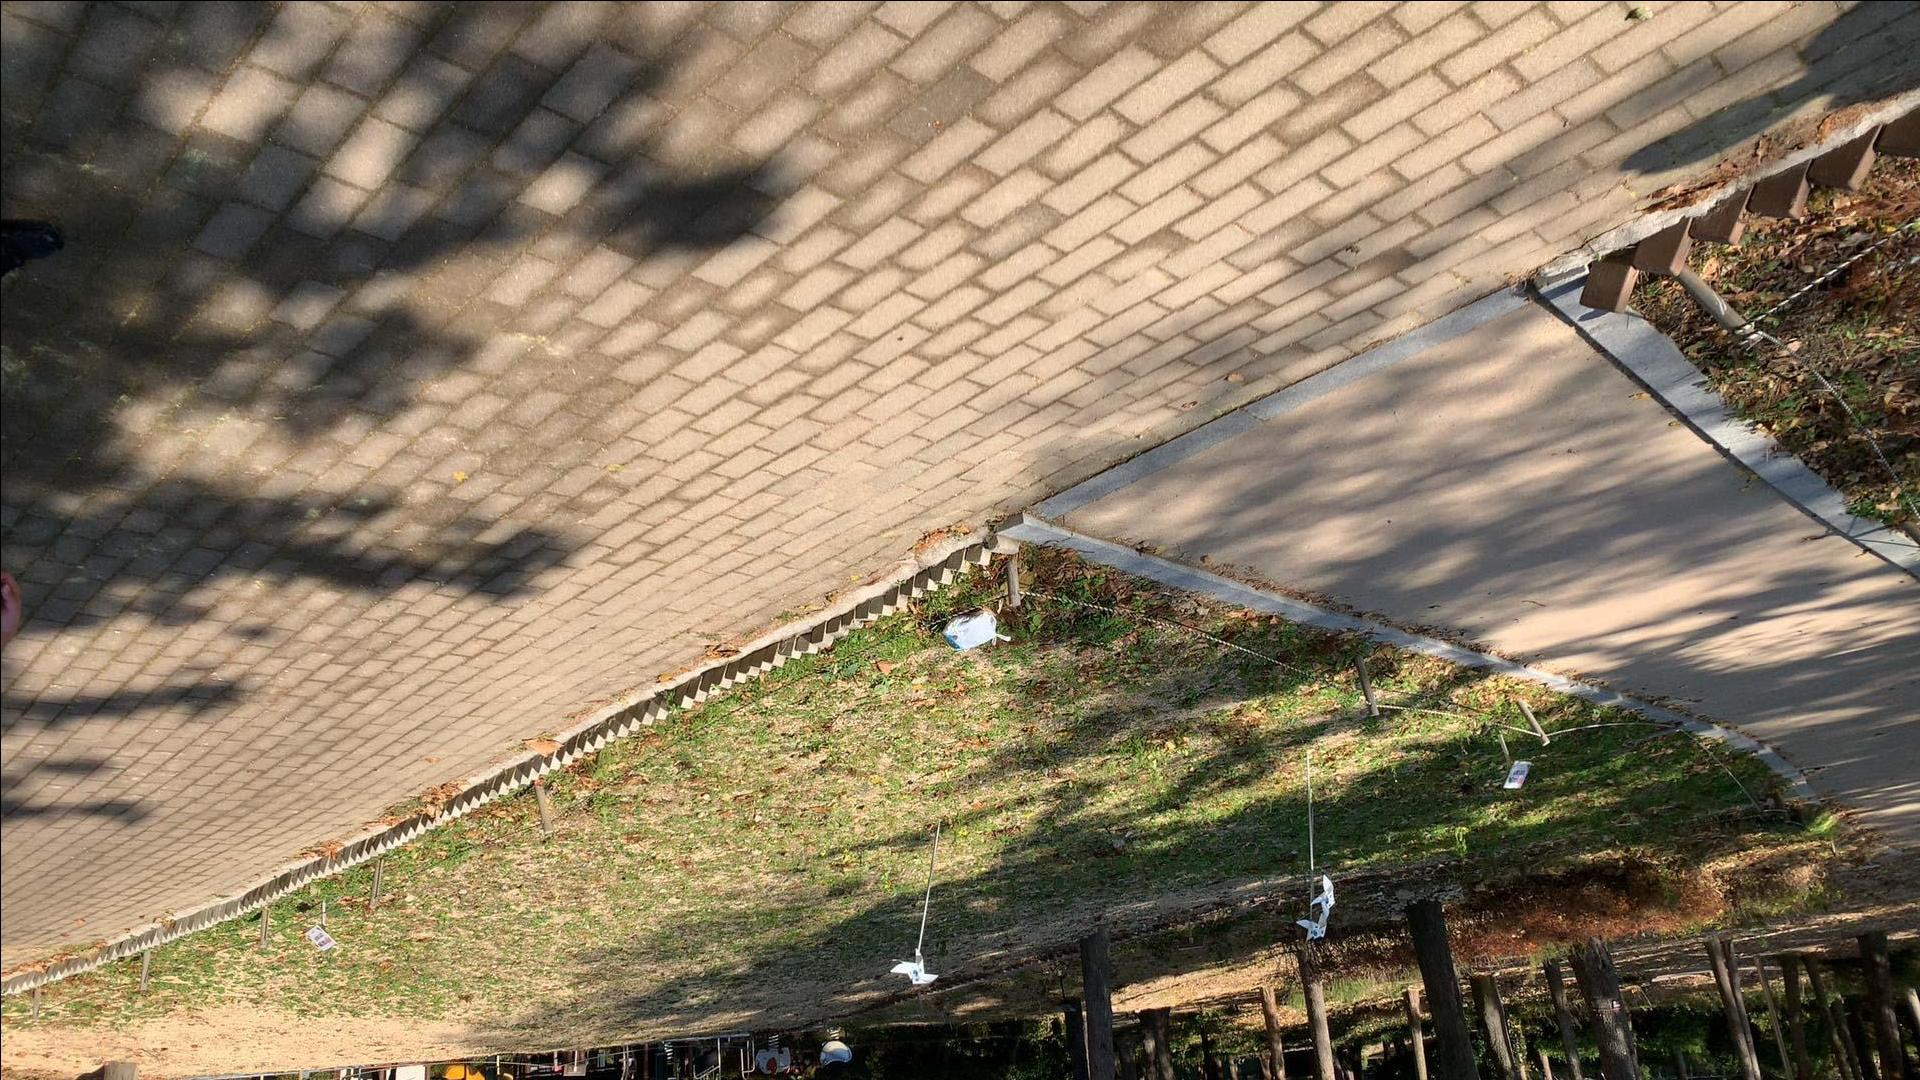white_bag: (942, 608, 1015, 655)
